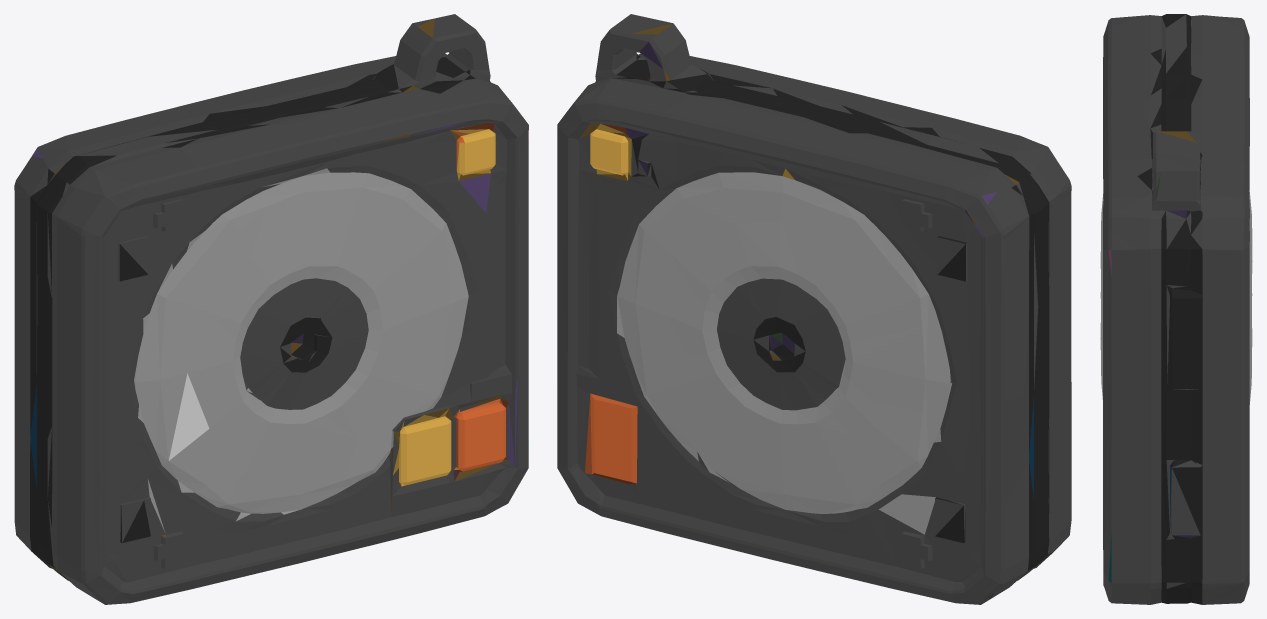
The model's file is milo_md.glb.
3 views of the same model, side by side, from view 1: azimuth 30°, elevation 25°; view 2: azimuth 150°, elevation 25°; view 3: azimuth 270°, elevation 25° (orthographic). The views are drawn at different scales.
Parts seen in each view (by area): view 1: node_0; view 2: node_0; view 3: node_0.
Boxes of the visible parts, bbox=[...] form: node_0: bbox=[14, 14, 528, 604]; node_0: bbox=[557, 14, 1071, 604]; node_0: bbox=[1100, 14, 1252, 604].
Size of the model in its own units: 0.9999 by 0.9789 by 0.2925.
